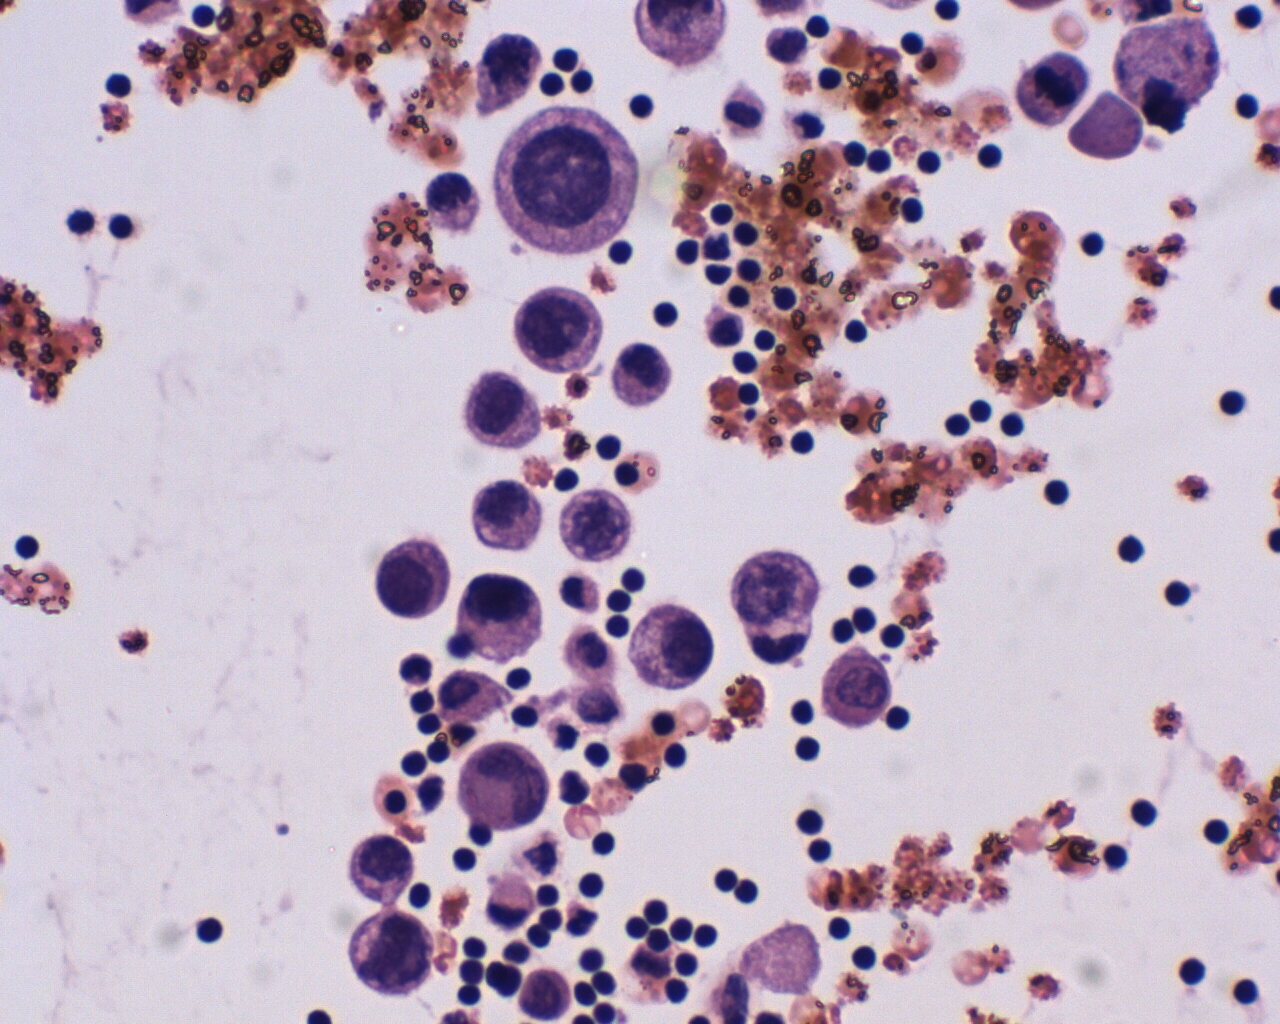ab: (495, 107, 645, 256), (450, 739, 554, 837), (510, 282, 607, 380), (455, 565, 548, 665), (348, 907, 435, 1004), (813, 641, 895, 734), (628, 604, 712, 694), (466, 367, 551, 455), (555, 485, 638, 565), (371, 540, 452, 621), (606, 338, 676, 411), (345, 836, 420, 903), (512, 965, 576, 1023)
lymph: (1040, 466, 1076, 520), (1168, 950, 1214, 993), (190, 911, 235, 952), (1208, 381, 1254, 421), (1110, 529, 1154, 569), (97, 206, 143, 245), (1125, 793, 1167, 834), (836, 315, 871, 347), (1161, 575, 1194, 608), (911, 145, 945, 179), (587, 825, 620, 860), (8, 532, 45, 562), (790, 424, 820, 458)
